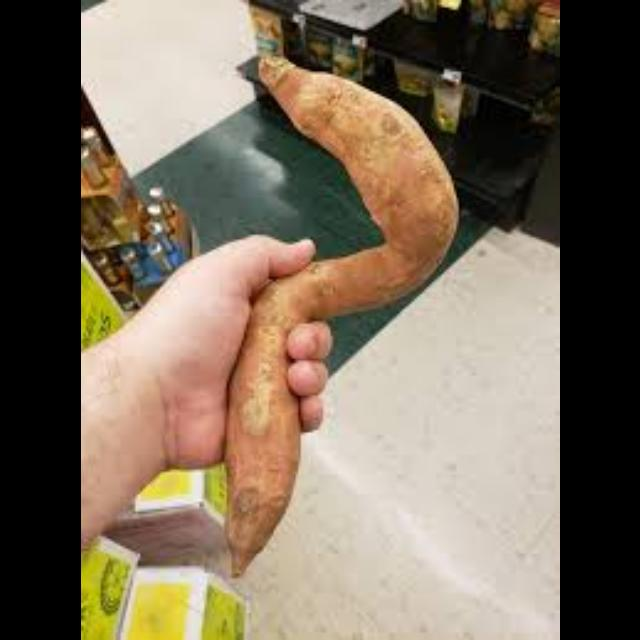Damaged potato: (225, 56, 459, 588)
